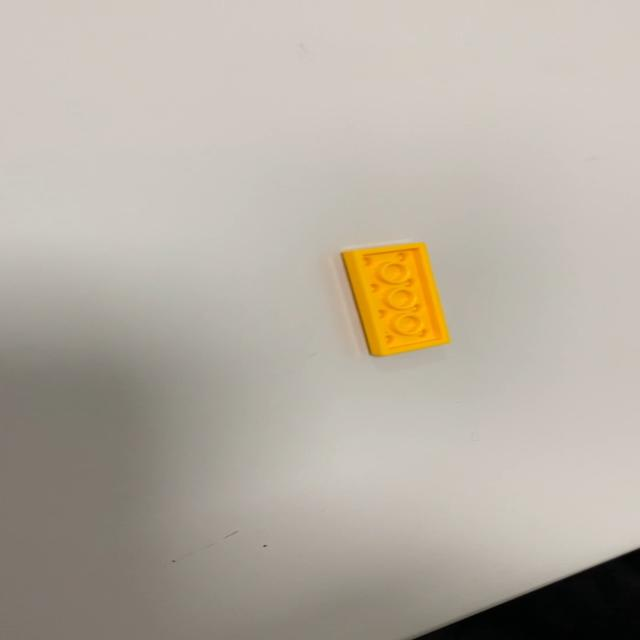C4x2x0: (338, 241, 451, 357)
